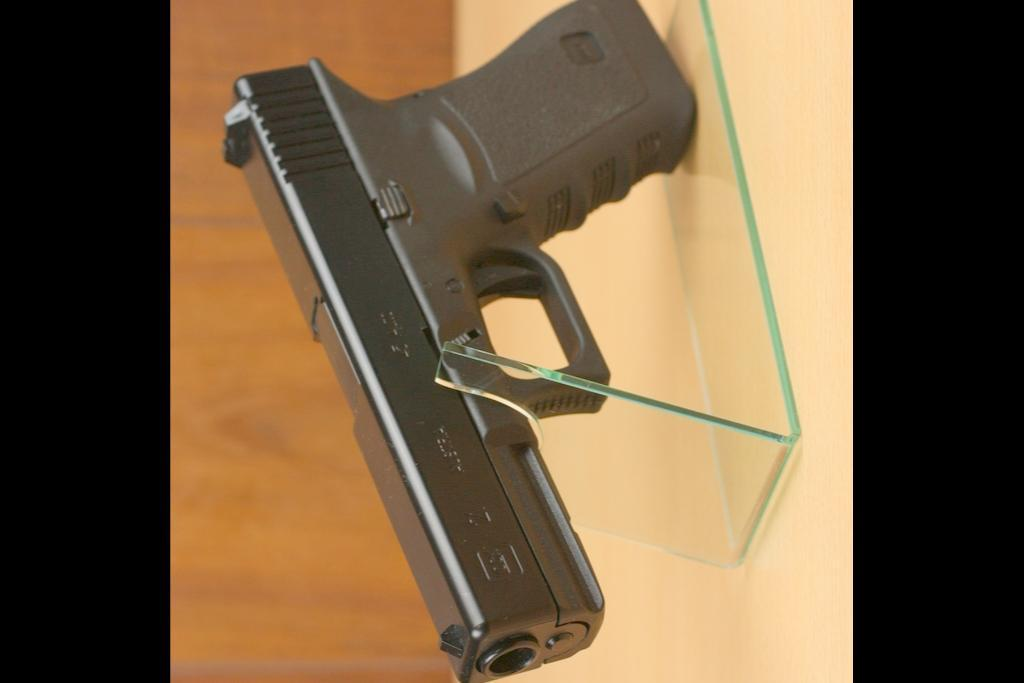gun: (221, 0, 692, 682)
